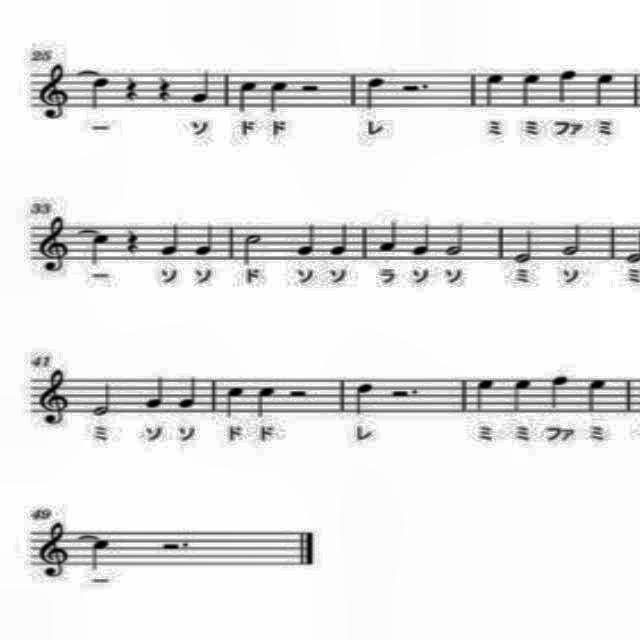Half-note: (88, 378, 116, 422), (512, 226, 540, 268), (238, 228, 266, 268), (561, 220, 587, 260), (444, 220, 468, 262)
Half-rest: (155, 537, 191, 555), (389, 384, 421, 402), (398, 80, 429, 96), (286, 386, 310, 402), (298, 81, 322, 95)
Quarter-note: (408, 219, 436, 265), (584, 375, 612, 417), (591, 68, 619, 109), (292, 218, 318, 262), (188, 68, 216, 108), (478, 70, 506, 110), (518, 70, 546, 110), (350, 379, 378, 419), (234, 75, 260, 117), (253, 382, 280, 422), (140, 375, 168, 413), (326, 217, 350, 261), (472, 376, 498, 416), (554, 67, 580, 106), (365, 76, 391, 114), (222, 383, 246, 422), (90, 538, 116, 574), (549, 373, 571, 415), (511, 376, 534, 416), (192, 219, 216, 257), (177, 373, 201, 411), (159, 218, 181, 258), (378, 218, 400, 258), (86, 76, 110, 112), (268, 78, 292, 114), (90, 233, 114, 269)
Quarter-rest: (152, 70, 172, 106), (122, 224, 142, 260), (120, 70, 140, 106)
Treble-clef: (29, 520, 76, 584), (34, 60, 78, 124), (29, 217, 73, 280), (34, 368, 74, 428)
